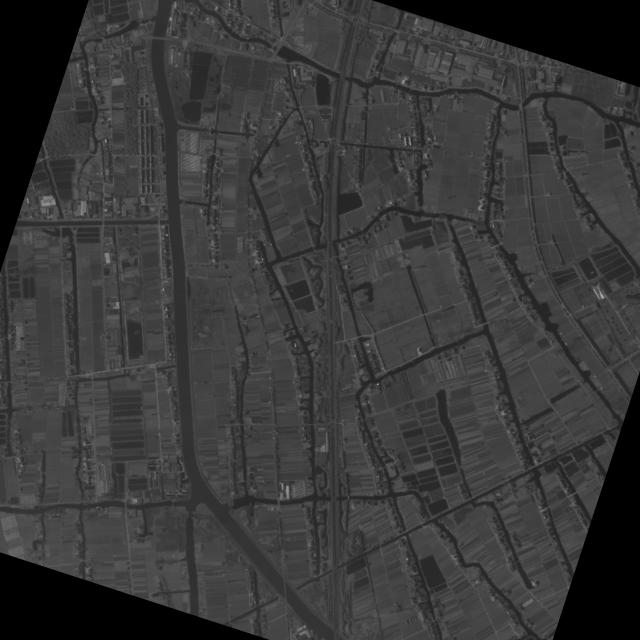ship: (502, 483, 505, 485), (77, 377, 78, 379)
